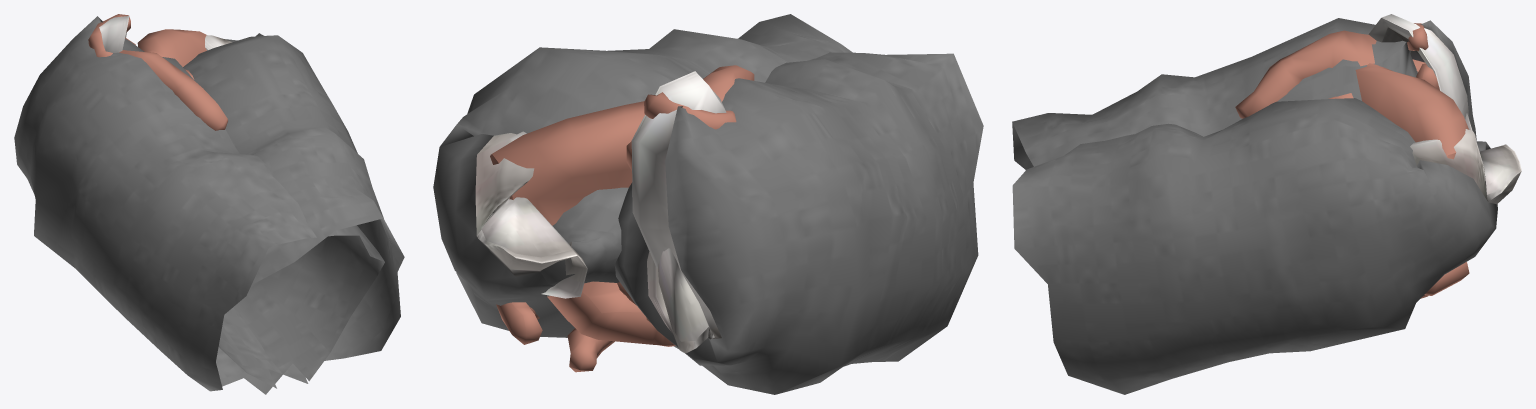
Rendered from maos_volante.glb.
The picture shows the model from 3 angles, left to right: view 1: azimuth 30°, elevation 25°; view 2: azimuth 150°, elevation 25°; view 3: azimuth 270°, elevation 25°; orthographic projection. The views are drawn at different scales.
Parts seen in each view (by area): view 1: MaoEsq, MaoDir; view 2: MaoEsq, MaoDir; view 3: MaoDir, MaoEsq.
Boxes of the visible parts, bbox=[...] form: MaoEsq: bbox=[14, 16, 384, 394]; MaoDir: bbox=[88, 14, 404, 388]; MaoEsq: bbox=[496, 52, 983, 394]; MaoDir: bbox=[433, 14, 852, 346]; MaoDir: bbox=[1012, 23, 1521, 394]; MaoEsq: bbox=[1012, 14, 1476, 298].
Size of the model in its own units: 0.2032 by 0.1974 by 0.278.
2 materials, 2 textured.
